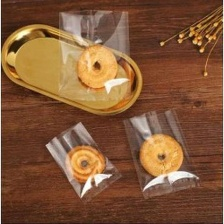snack: (118, 101, 207, 204), (52, 3, 136, 106), (39, 115, 128, 208)
